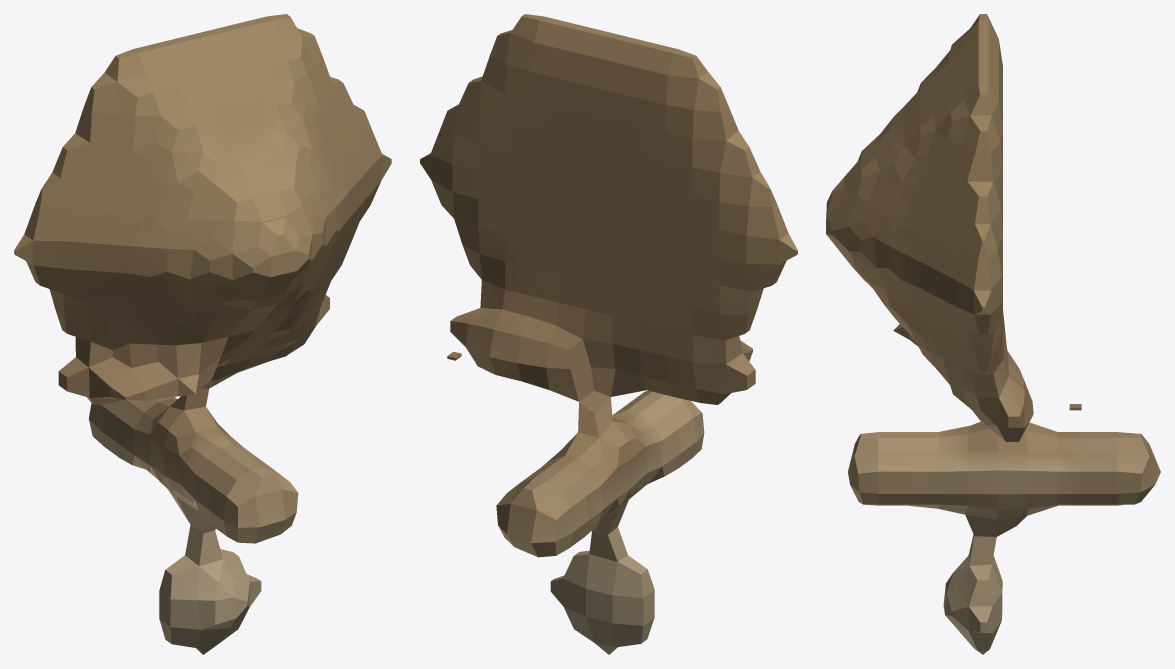
File: worldTreeFragment.glb
3 views of the same model, side by side, from view 1: azimuth 30°, elevation 25°; view 2: azimuth 150°, elevation 25°; view 3: azimuth 270°, elevation 25° (orthographic). The views are drawn at different scales.
Visible parts, largest first — view 1: geometry_0; view 2: geometry_0; view 3: geometry_0.
Part boxes in pixels (x1,y1,x2,y2): geometry_0: [14, 14, 391, 654]; geometry_0: [420, 14, 797, 654]; geometry_0: [826, 14, 1160, 654].
Size of the model in its own units: 0.5863 by 0.9232 by 0.4656.
Materials: 1 (1 with a texture image).
